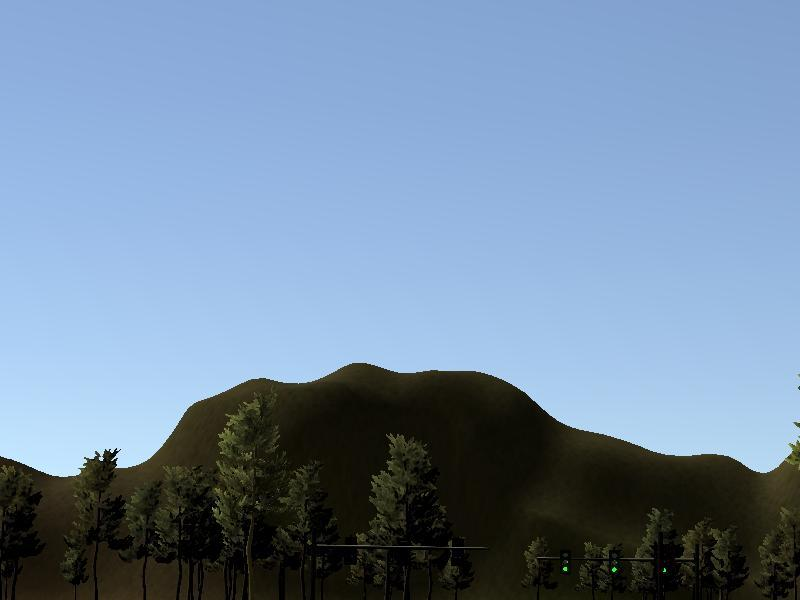Green: (658, 545, 673, 578), (559, 549, 571, 576), (608, 548, 620, 575)
